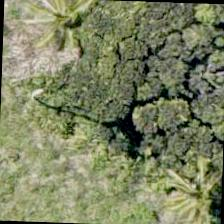Kelapa_Sawit: (139, 161, 223, 223), (55, 0, 148, 55)
